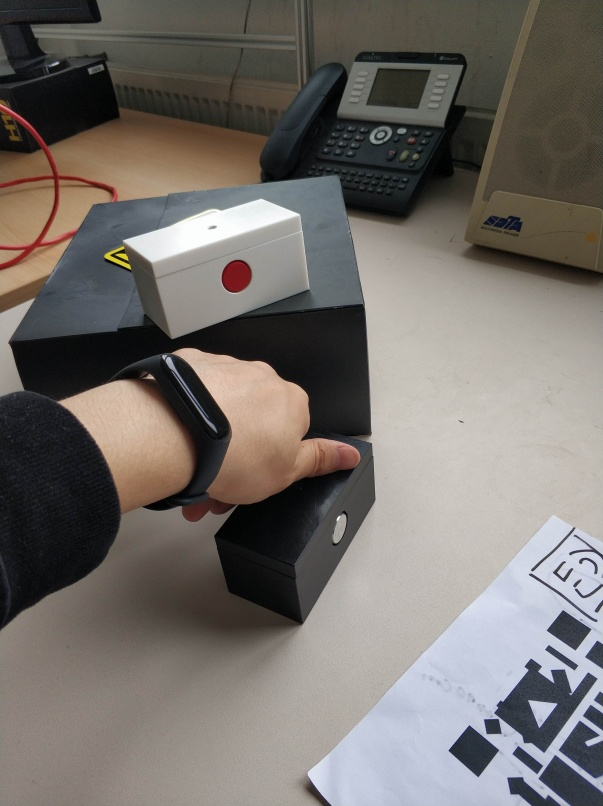black+black+silver: (210, 439, 377, 631)
white+white+red: (120, 193, 313, 339)
